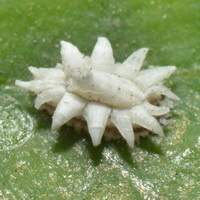insect: (15, 37, 178, 147)
